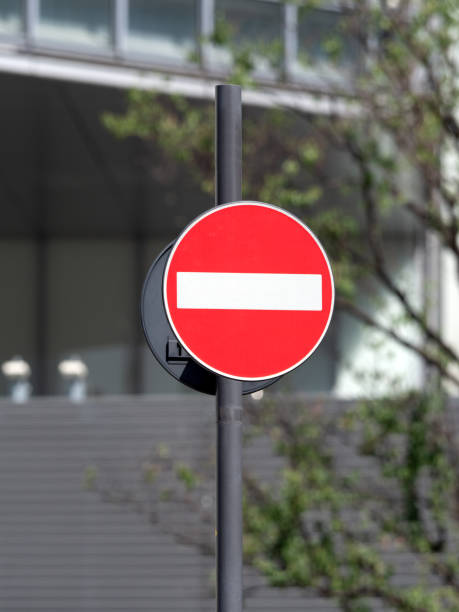Girilmez: (165, 201, 335, 376)
